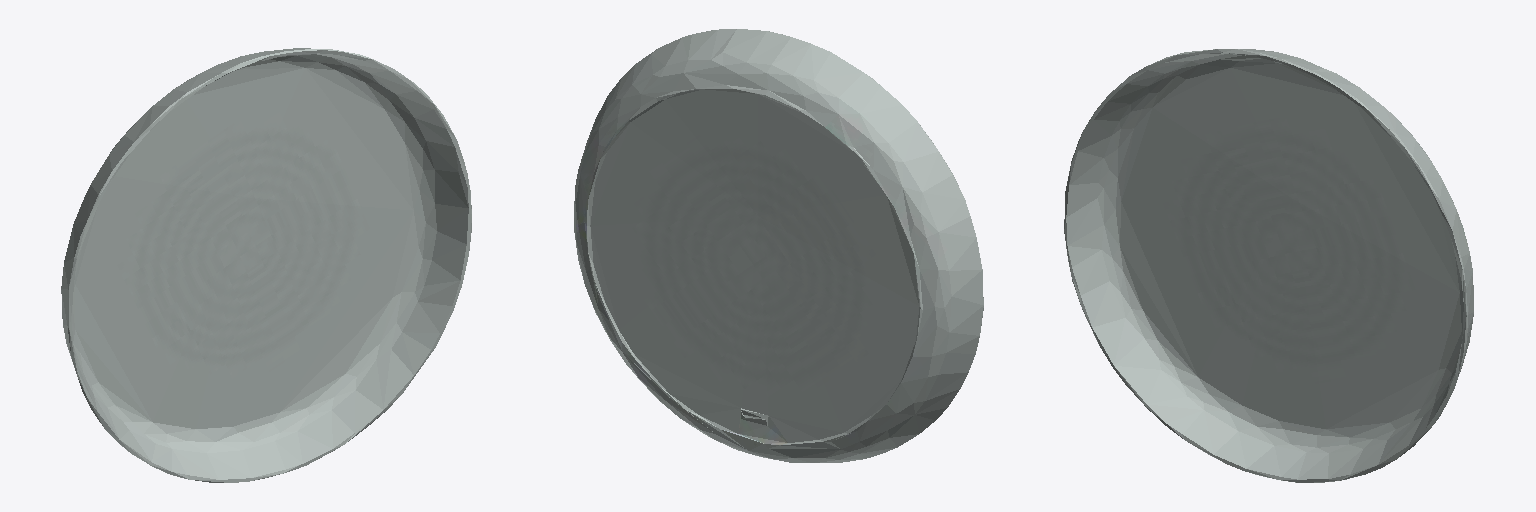
3 renders of one model, left to right at view 1: azimuth 30°, elevation 25°; view 2: azimuth 150°, elevation 25°; view 3: azimuth 330°, elevation 25°, orthographic.
Size of the model in its own units: 0.1853 by 0.1853 by 0.0235.
1 materials, 1 textured.